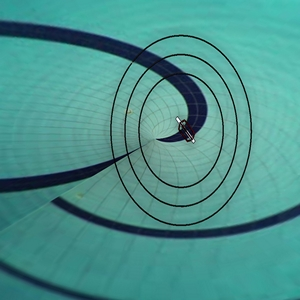submarine: (108, 29, 260, 234), (164, 109, 202, 152)
